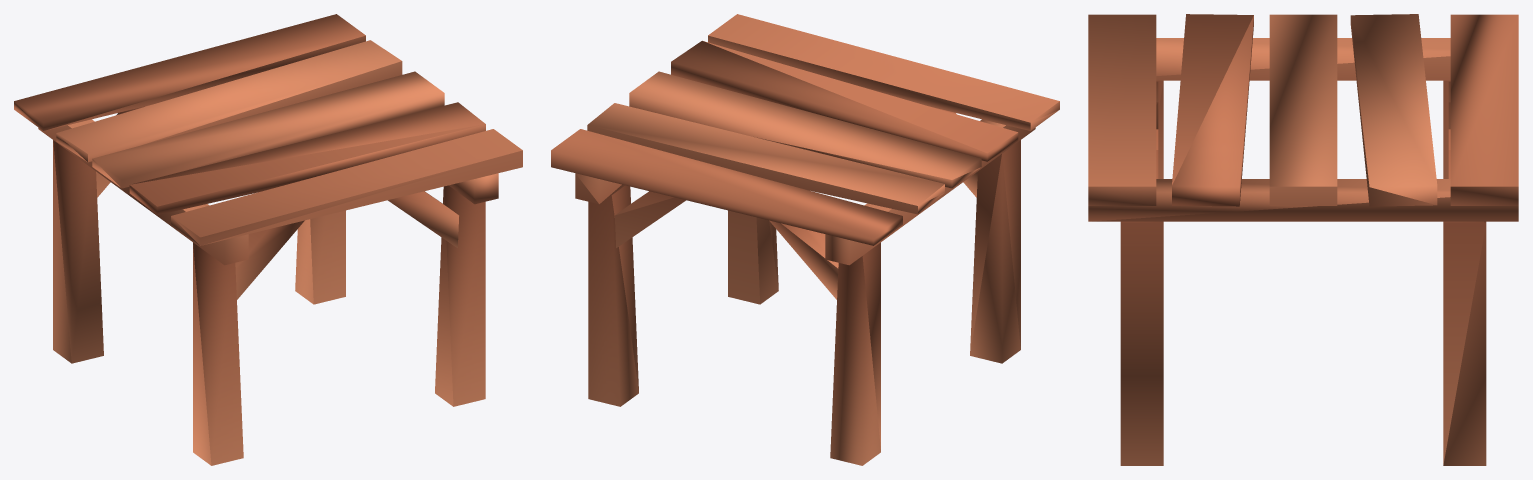
Rendered from template-floor-layer-raised_lev2.glb.
3 views of the same model, side by side, from view 1: azimuth 30°, elevation 25°; view 2: azimuth 150°, elevation 25°; view 3: azimuth 270°, elevation 25° (orthographic). The views are drawn at different scales.
Visible parts, largest first — view 1: template-floor-layer-raised_lev2; view 2: template-floor-layer-raised_lev2; view 3: template-floor-layer-raised_lev2.
Part boxes in pixels (box(x1,y1,x2,y2)): template-floor-layer-raised_lev2: box(14, 14, 522, 465); template-floor-layer-raised_lev2: box(551, 14, 1059, 465); template-floor-layer-raised_lev2: box(1088, 14, 1518, 465).
Bounding box in the file's own units: 4.02 × 3 × 4.
1 material, 1 textured.
